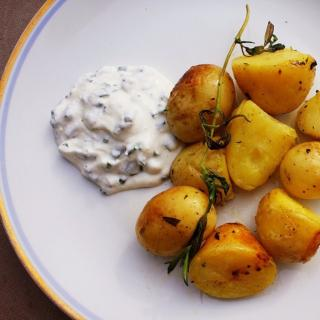Potato: (133, 47, 320, 300), (138, 188, 220, 264)
